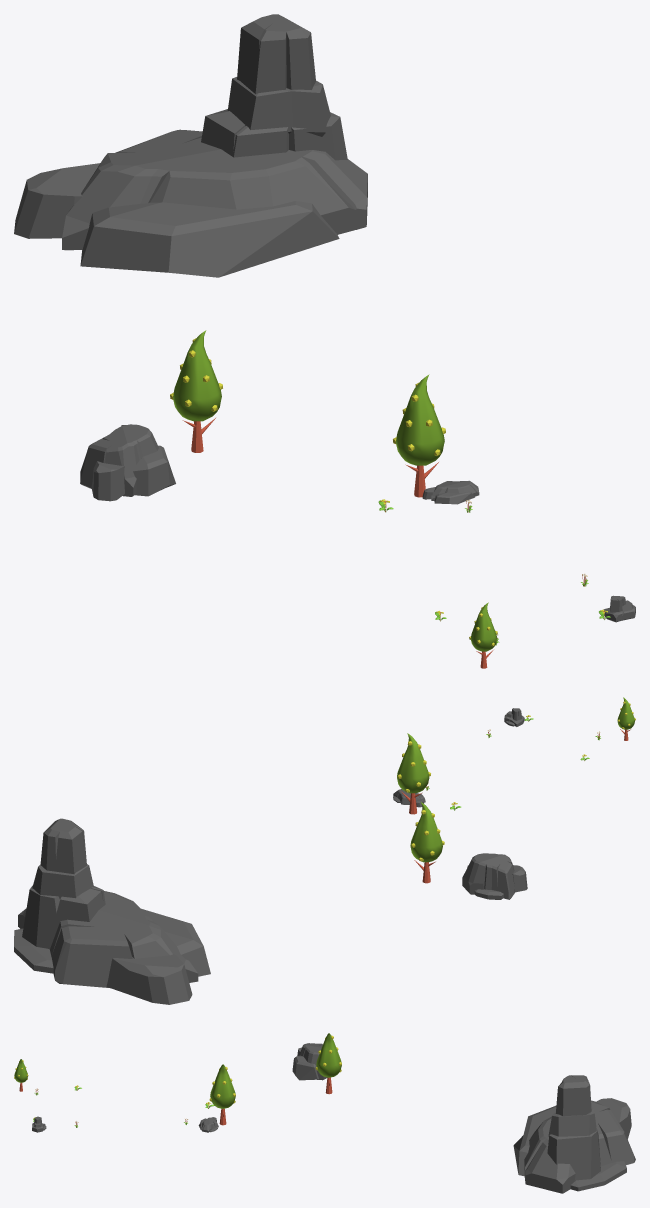
The model's file is Background 1.fbx.
3 renders of one model, top to bottom at view 1: azimuth 30°, elevation 25°; view 2: azimuth 150°, elevation 25°; view 3: azimuth 270°, elevation 25°, orthographic. The views are drawn at different scales.
Visible parts, largest first — view 1: stone, stone1, Tree2, Tree1, stone3, Tree3; view 2: stone, stone1, Tree2, Tree1, Tree3; view 3: stone, stone1, Tree1, Tree2, Tree3, stone3.
Part boxes in pixels (x1,y1,x2,y2): stone: [14, 14, 367, 277]; stone1: [80, 424, 175, 501]; Tree2: [170, 330, 222, 452]; Tree1: [393, 374, 445, 497]; stone3: [422, 480, 479, 504]; Tree3: [469, 602, 497, 668]; stone: [14, 818, 210, 1004]; stone1: [462, 853, 527, 899]; Tree2: [410, 802, 444, 883]; Tree1: [397, 733, 430, 814]; Tree3: [617, 697, 635, 740]; stone: [513, 1075, 635, 1193]; stone1: [292, 1043, 327, 1080]; Tree1: [209, 1064, 235, 1125]; Tree2: [315, 1033, 341, 1094]; Tree3: [14, 1059, 28, 1091]; stone3: [198, 1117, 218, 1132].
Size of what is drawn, in the model's own units: 3461 by 1177 by 6834.
